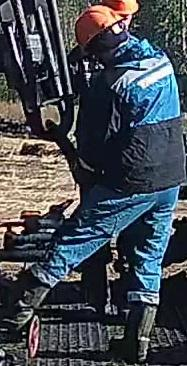helmet: (73, 6, 128, 54), (101, 0, 141, 21)
vest: (73, 43, 186, 195)
